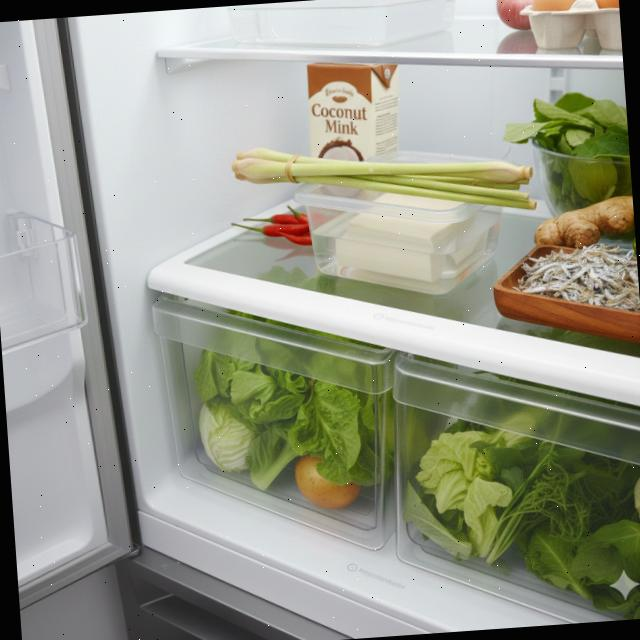anchovies: (512, 240, 640, 319)
cabbage: (194, 394, 255, 476)
chili: (230, 209, 309, 252)
egg: (521, 0, 622, 53)
ginger: (532, 193, 635, 249)
leafy_greens: (400, 404, 640, 631), (195, 340, 382, 496), (502, 89, 632, 203)
lemongrass: (232, 126, 535, 232)
onion: (494, 0, 531, 33)
tofu: (331, 184, 488, 289)
